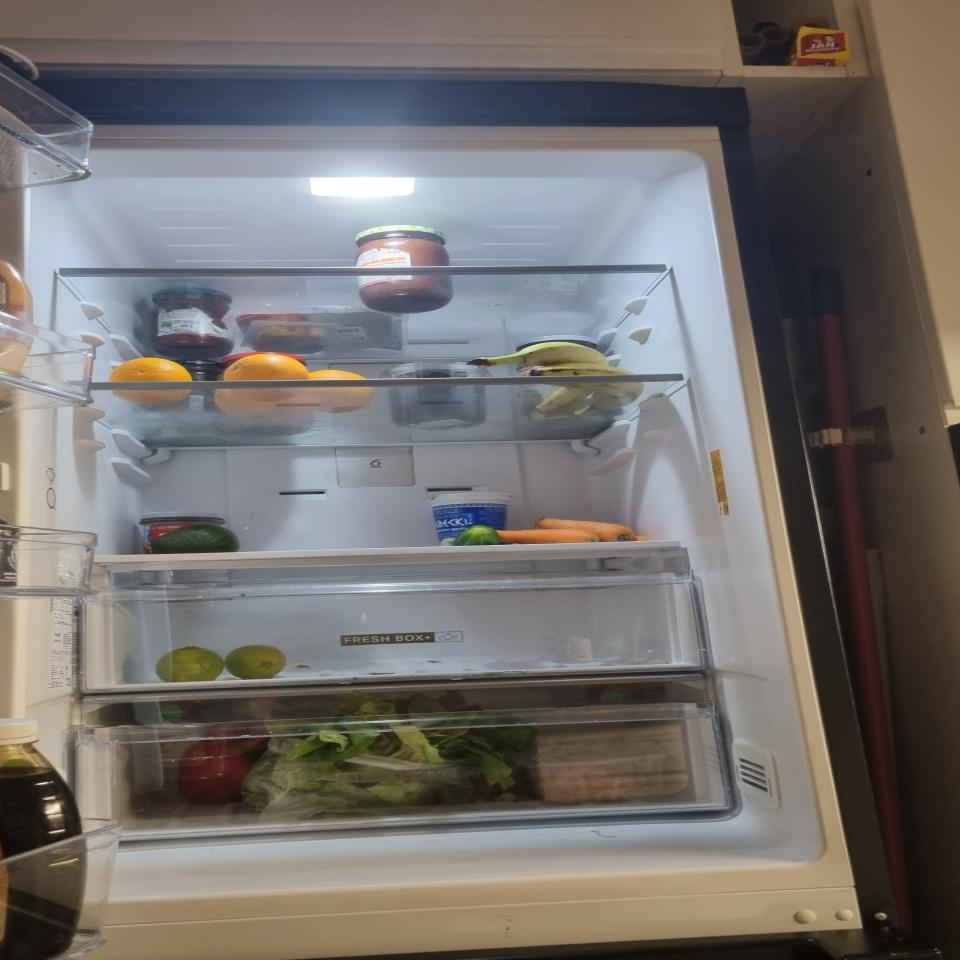Aguacate: (149, 524, 240, 554)
Carne pollo: (519, 751, 666, 801)
Lechuga/Endivia: (241, 690, 536, 821)
Pepino: (450, 525, 502, 546)
Plátano: (466, 342, 644, 418)
Yogur: (423, 492, 514, 547)
Zanahoria: (494, 518, 648, 544)
